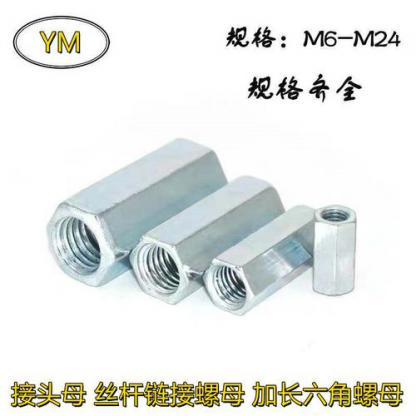FOD: (44, 136, 228, 291), (127, 172, 287, 302), (196, 202, 332, 317), (309, 200, 360, 298)
